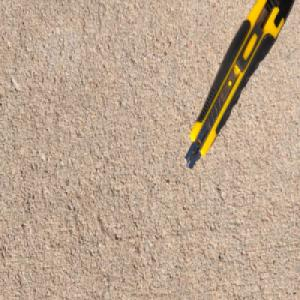Cutter: (184, 0, 296, 170)
